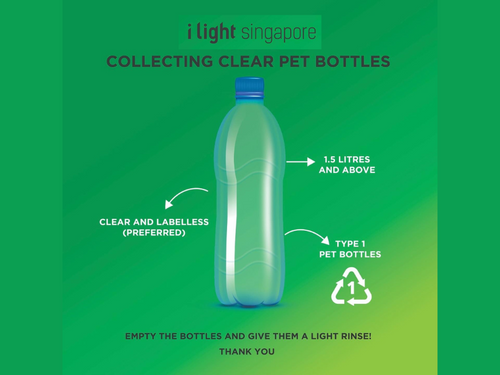plastic_bottle: (209, 72, 290, 318)
